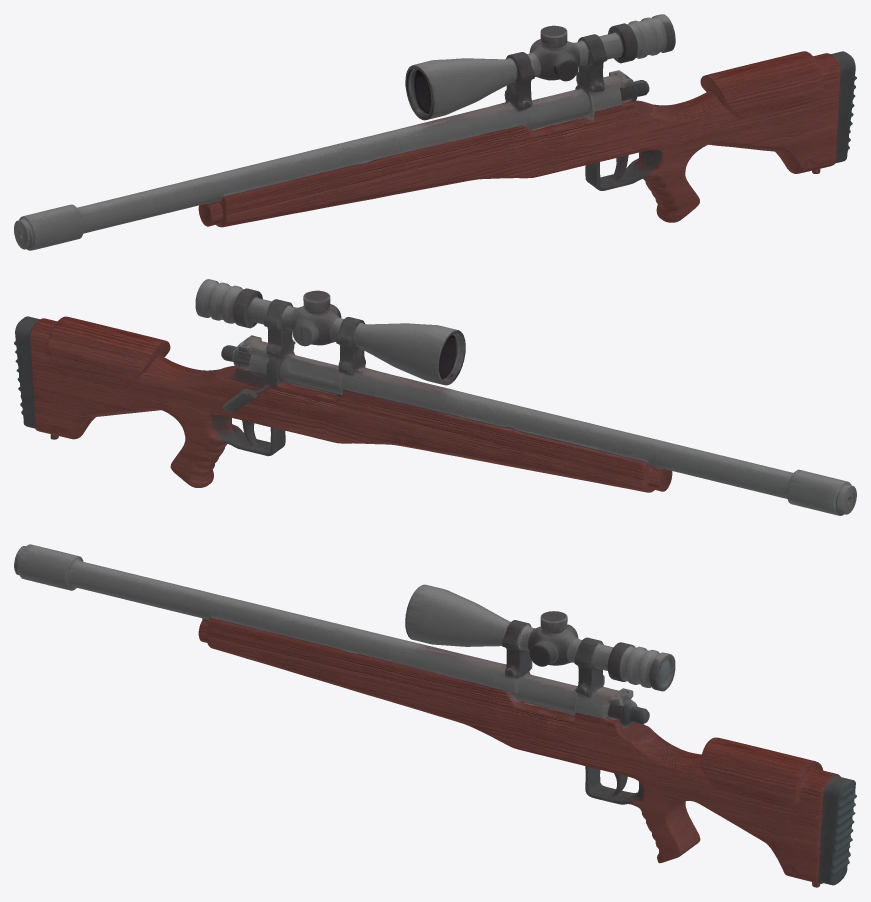
Rendered from sniper.glb.
3 views of the same model, one above another, from view 1: azimuth 30°, elevation 25°; view 2: azimuth 150°, elevation 25°; view 3: azimuth 330°, elevation 25° (orthographic).
Size of the model in its own units: 1.9 by 0.4704 by 0.1354.
1 material, 1 textured.
